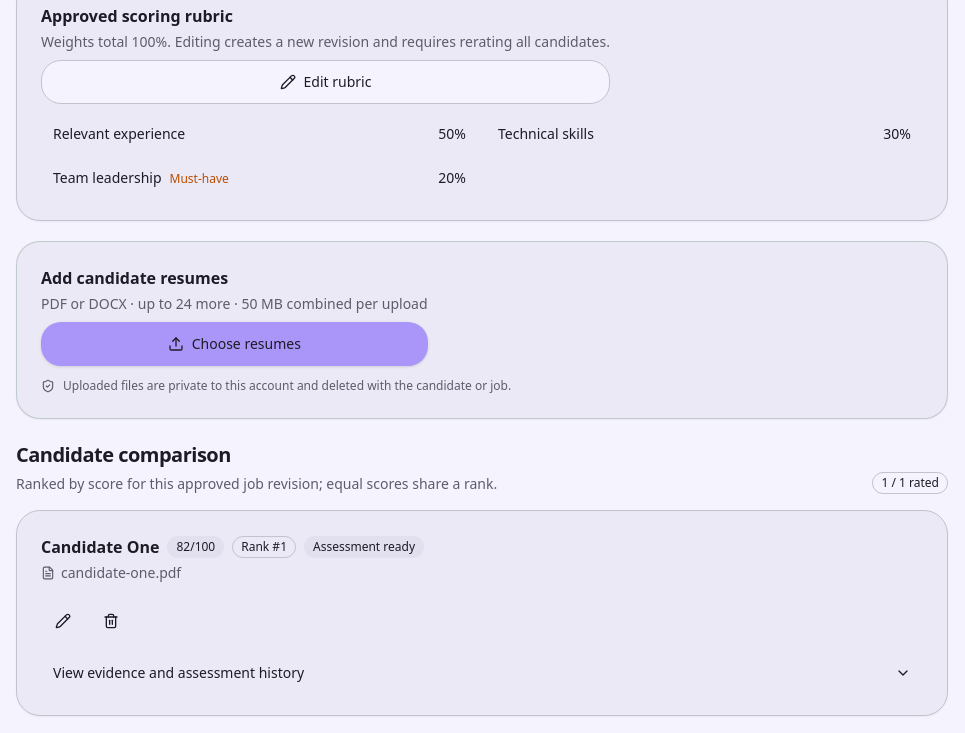
Test: ResumeRaterPage › shows ranked evidence, must-have flags, suggestions and interview questions
The image size is (965, 733).
(page scrolled)
Check: the text "Candidate One" is shown, box [41,535,159,559]
Check: the text "82/100" is shown, box [167,536,224,558]
Step 1. Click the heading "View evidence and assessment history" → (179,672), box [41,655,923,691]
(page scrolled)
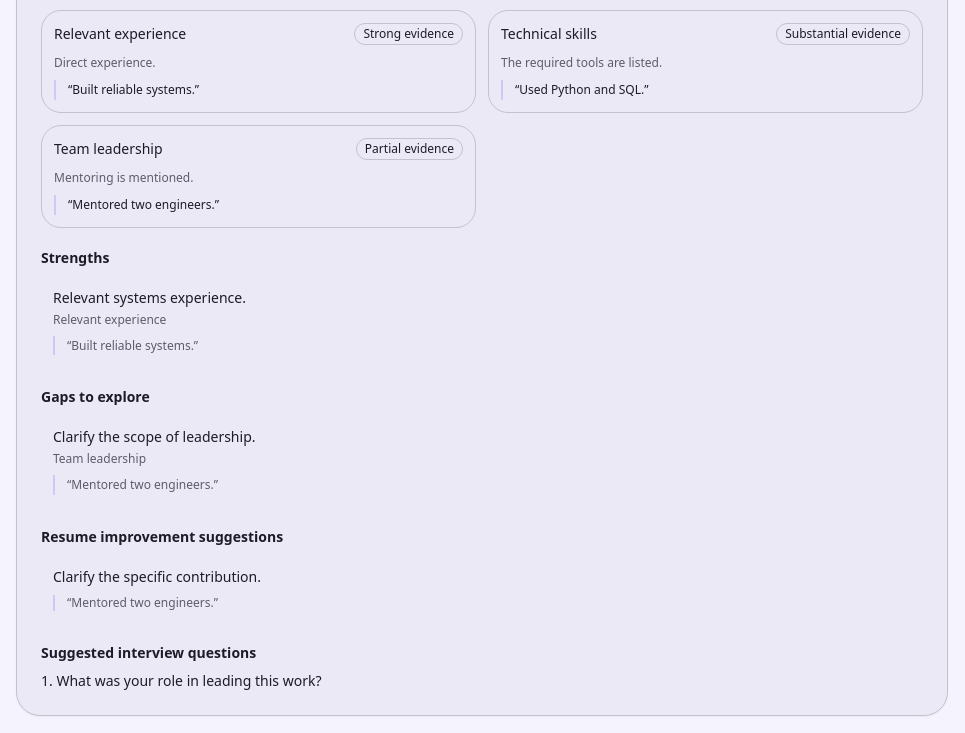
Check: the text "Clarify the specific contribution." is shown, box [53,567,261,586]
Check: the list item "What was your role in leading this work?" is shown, box [56,671,322,690]
